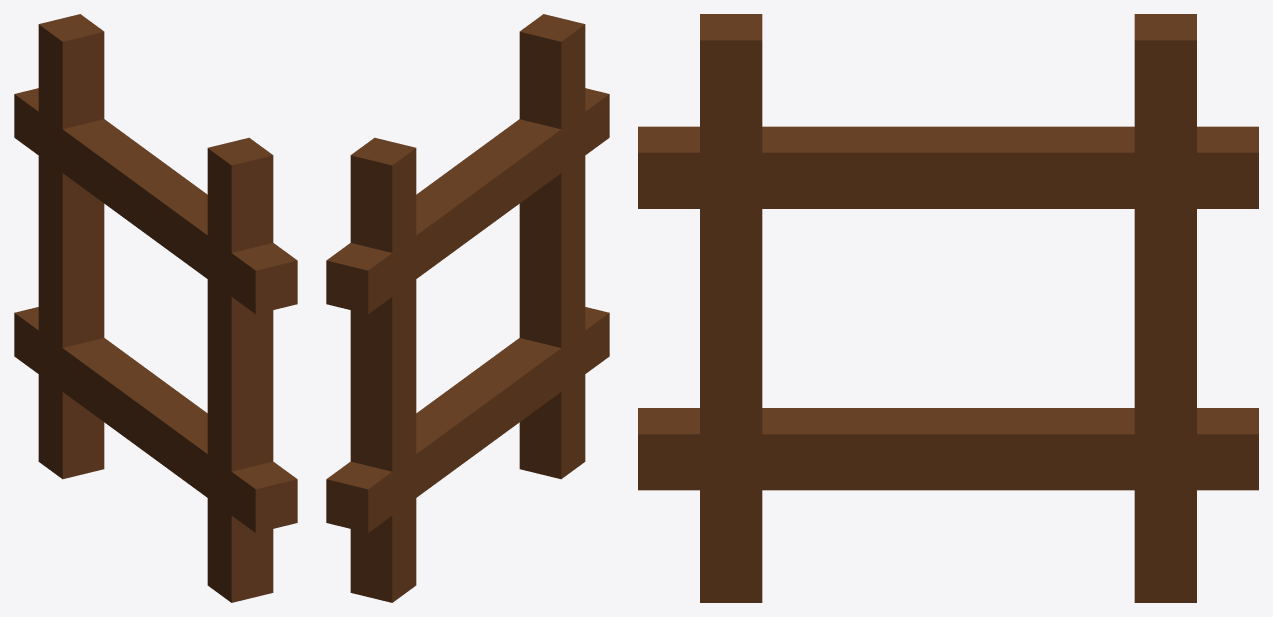
Rendered from ladder.dae.
The picture shows the model from 3 angles, left to right: view 1: azimuth 30°, elevation 25°; view 2: azimuth 150°, elevation 25°; view 3: azimuth 270°, elevation 25°; orthographic projection. The views are drawn at different scales.
Parts seen in each view (by area): view 1: ladder; view 2: ladder; view 3: ladder.
Part boxes in pixels (box(x1,y1,x2,y2)): ladder: box(14, 14, 297, 602); ladder: box(326, 14, 609, 602); ladder: box(638, 14, 1258, 602).
Bounding box in the file's own units: 0.1 × 1 × 1.
Materials: 1 (1 with a texture image).
